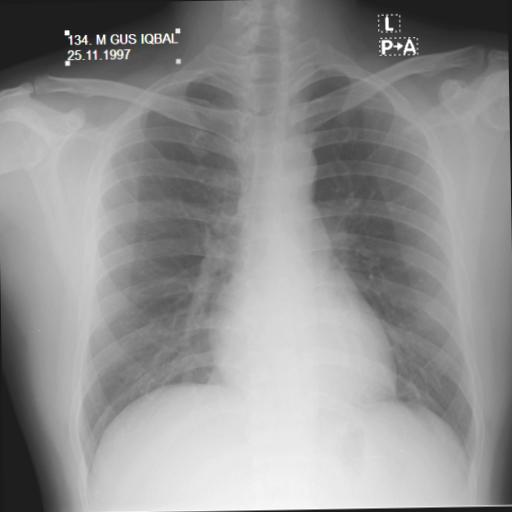normal: (64, 47, 496, 496)
